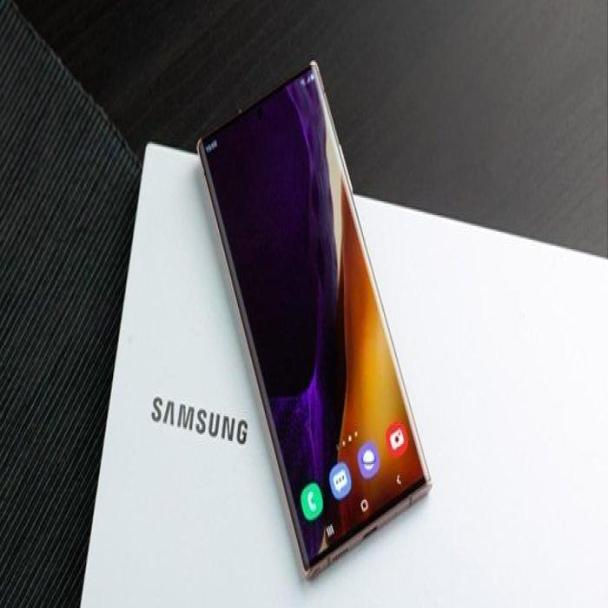Handphone: (188, 51, 438, 591)
